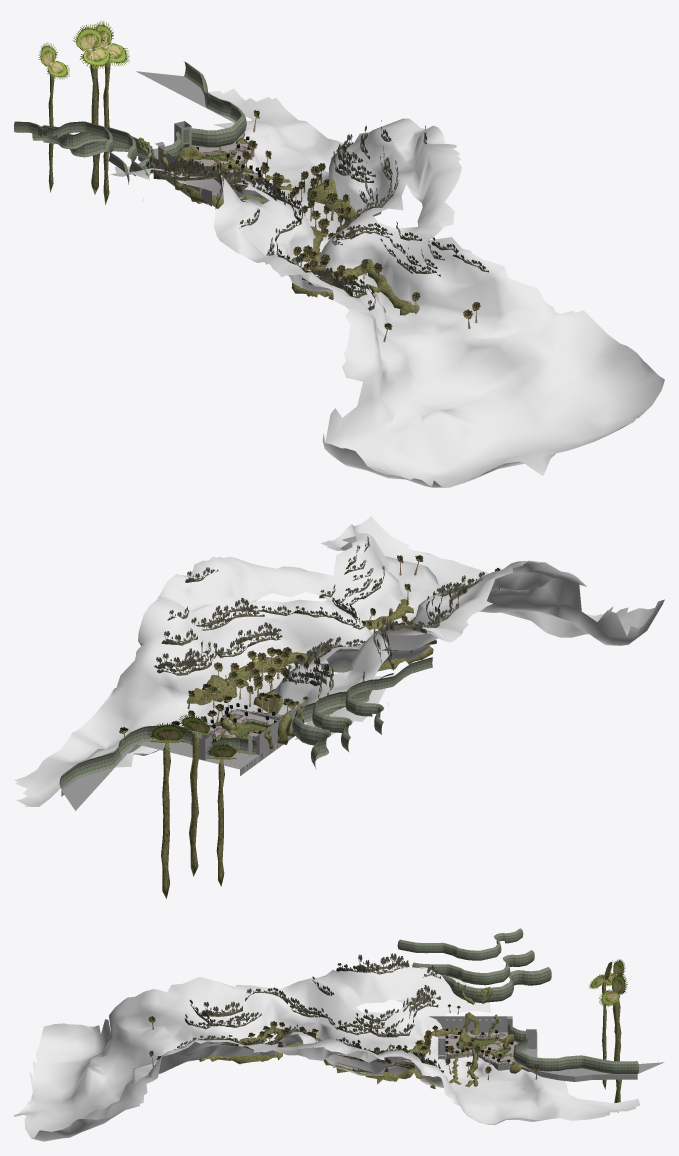
Rendered from Beach_1.2.fbx.
3 renders of one model, top to bottom at view 1: azimuth 30°, elevation 25°; view 2: azimuth 150°, elevation 25°; view 3: azimuth 270°, elevation 25°, orthographic. The views are drawn at different scales.
Parts seen in each view (by area): view 1: Terrain, BG_Palms.001, Vine_overgrowth, Foliage_Giant_VFT.002, BG_Buildings, Foliage_Palmtree, Building, Patio, Wall; view 2: Terrain, BG_Palms.001, Foliage_Giant_VFT.002, BG_Buildings, Vine_overgrowth, Foliage_Palmtree, Patio, Building, Wall; view 3: Terrain, BG_Palms.001, BG_Buildings, Vine_overgrowth, Building, Foliage_Giant_VFT.002, Patio, Foliage_Palmtree, Wall, Patio_B.
Part boxes in pixels (<box>): Terrain: <box>110,88,664,487</box>; BG_Palms.001: <box>144,120,488,310</box>; Vine_overgrowth: <box>138,137,419,315</box>; Foliage_Giant_VFT.002: <box>38,20,129,205</box>; BG_Buildings: <box>14,121,154,200</box>; Foliage_Palmtree: <box>183,110,480,342</box>; Building: <box>164,61,246,158</box>; Patio: <box>136,71,257,203</box>; Wall: <box>155,121,211,206</box>; Terrain: <box>14,516,664,806</box>; BG_Palms.001: <box>154,536,484,698</box>; Foliage_Giant_VFT.002: <box>147,714,238,898</box>; BG_Buildings: <box>292,657,432,769</box>; Vine_overgrowth: <box>186,599,433,752</box>; Foliage_Palmtree: <box>119,555,500,736</box>; Patio: <box>61,711,293,810</box>; Building: <box>59,724,256,790</box>; Wall: <box>198,697,310,760</box>; Terrain: <box>14,965,639,1141</box>; BG_Palms.001: <box>174,953,440,1072</box>; BG_Buildings: <box>397,928,551,1002</box>; Vine_overgrowth: <box>199,982,521,1088</box>; Building: <box>507,1023,638,1073</box>; Foliage_Giant_VFT.002: <box>589,959,627,1112</box>; Patio: <box>446,1032,664,1081</box>; Foliage_Palmtree: <box>148,1004,539,1080</box>; Wall: <box>429,1016,536,1048</box>; Patio_B: <box>447,1032,517,1065</box>.
Size of what is drawn, in the model's own units: 19741 by 10756 by 44328.
Materials: 16 (15 with a texture image).
